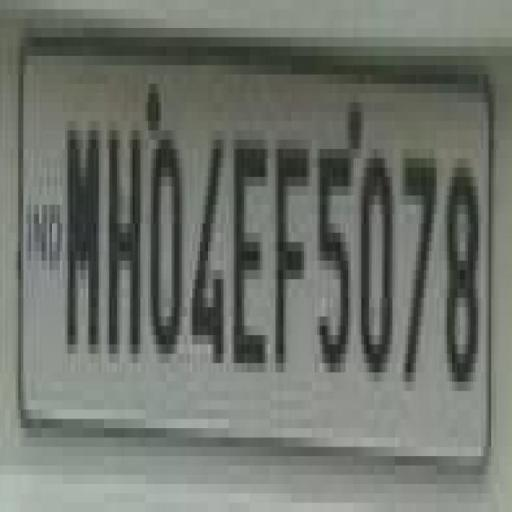number plate: (8, 9, 478, 465)
